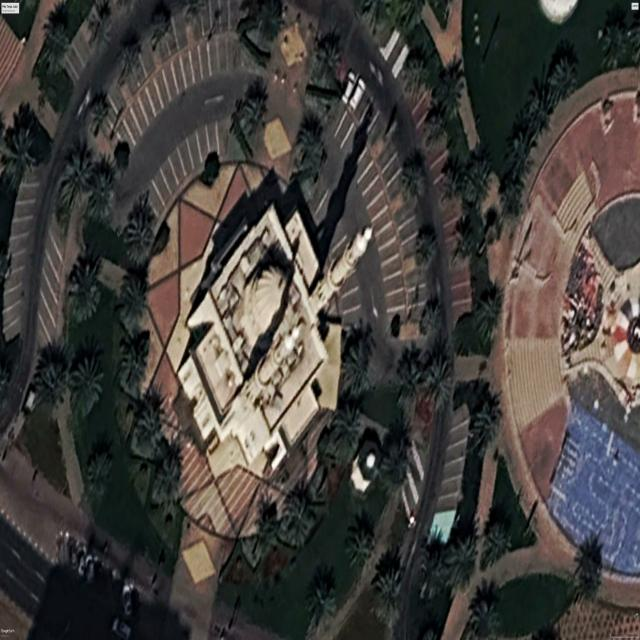mosque: (178, 205, 372, 465)
